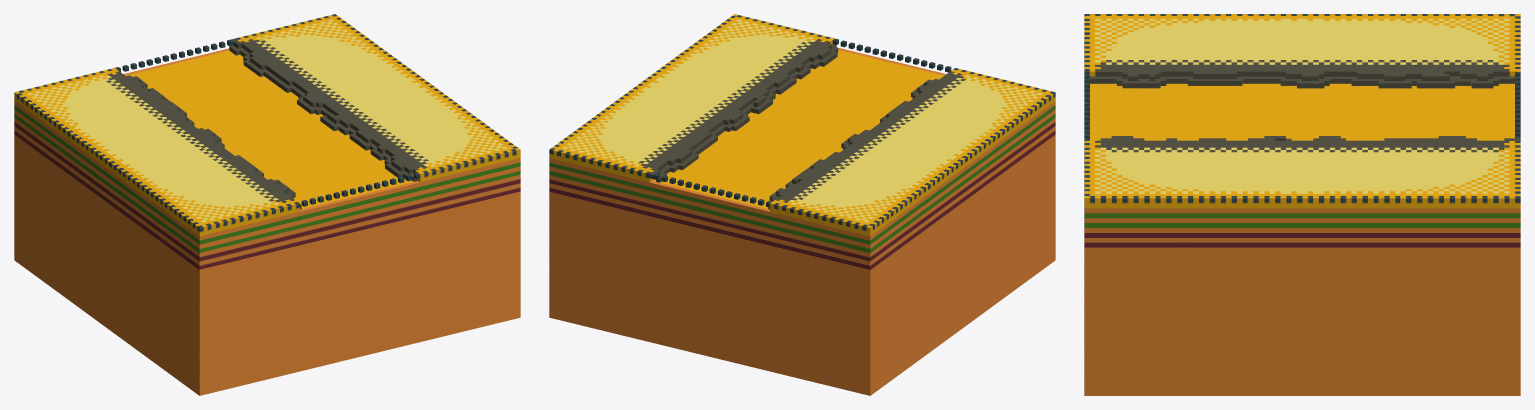
Rendered from sand_river_1_tile.glb.
The picture shows the model from 3 angles, left to right: view 1: azimuth 30°, elevation 25°; view 2: azimuth 150°, elevation 25°; view 3: azimuth 270°, elevation 25°; orthographic projection. The views are drawn at different scales.
Parts seen in each view (by area): view 1: sand_river_1_tile; view 2: sand_river_1_tile; view 3: sand_river_1_tile.
Boxes of the visible parts, bbox=[...] form: sand_river_1_tile: bbox=[14, 14, 520, 395]; sand_river_1_tile: bbox=[549, 14, 1055, 395]; sand_river_1_tile: bbox=[1084, 14, 1520, 395].
Bounding box in the file's own units: 8 × 4 × 8.
1 material, 1 textured.
